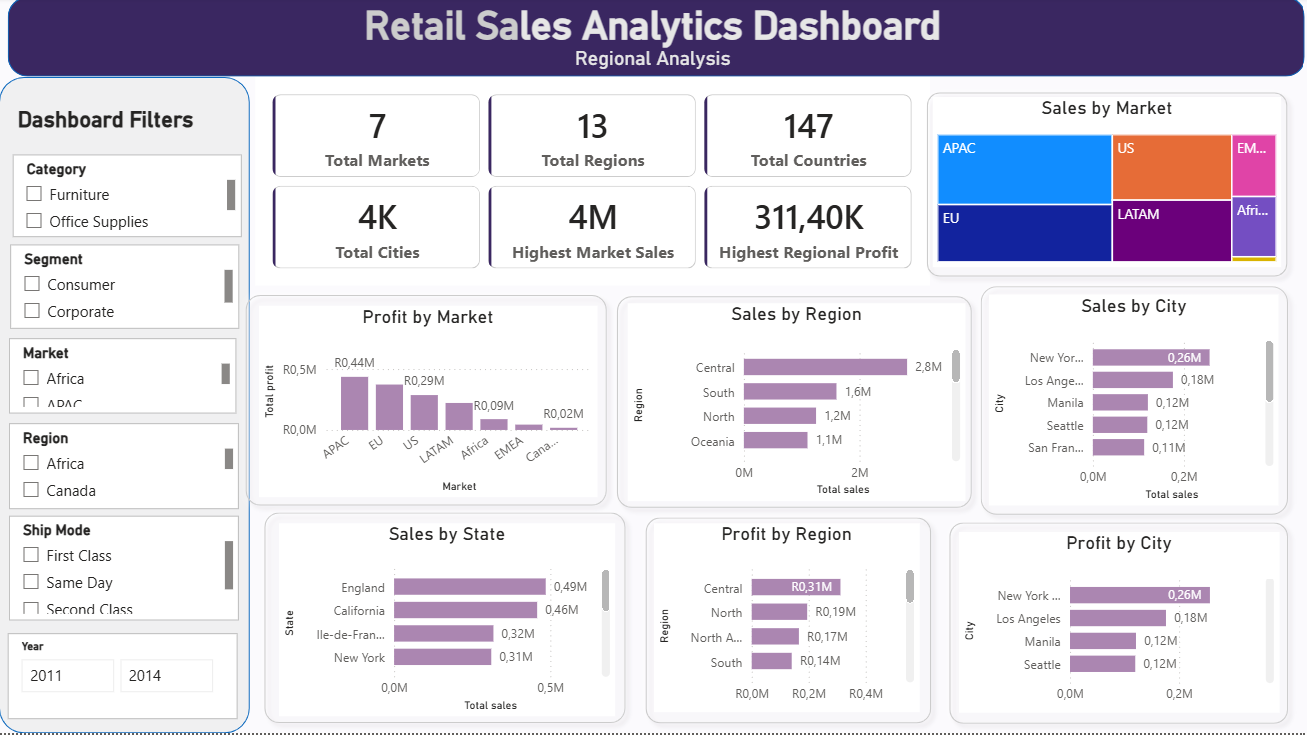

The page's visual inventory and layout, read from the dashboard file:
{"tool":"powerbi","page":{"name":"Regional Analysis","canvas":[1280,720],"ordinal":4},"visuals":[{"type":"shape","box":[8.7,0,1269.6,77.9],"z":0},{"type":"textbox","box":[10.1,0,1259.5,93.8],"z":1000},{"type":"shape","box":[0,77.9,245.3,642],"z":2000},{"type":"slicer","fields":{"Values":["superstore.category"]},"box":[13,154.4,223.6,80.8],"z":3000},{"type":"slicer","fields":{"Values":["superstore.segment"]},"box":[11.5,242.4,223.6,82.2],"z":4000},{"type":"slicer","fields":{"Values":["superstore.market"]},"box":[10.1,333.3,222.2,73.6],"z":5000},{"type":"slicer","fields":{"Values":["superstore.region"]},"box":[10.1,417,225.1,83.7],"z":6000},{"type":"slicer","fields":{"Values":["superstore.ship_mode"]},"box":[10.1,507.9,225.1,102.4],"z":7000},{"type":"slicer","fields":{"Values":["superstore.year"]},"box":[8.7,621.8,225.1,83.7],"z":8000},{"type":"textbox","box":[13,102.4,223.6,50.5],"z":9000},{"type":"cardVisual","fields":{"Data":["superstore.Total Markets","superstore.Total Regions","superstore.Total Countries","superstore.Total Cities","superstore.Highest Market Sales","superstore.Highest Regional Profit"]},"box":[250.7,78.3,660.3,204.2],"z":10000},{"type":"shape","box":[595.9,284.2,365,225.1],"z":11000},{"type":"shape","box":[950.8,274.1,318.6,241.6],"z":12000},{"type":"shape","box":[920.5,505,349.1,215],"z":13000},{"type":"shape","box":[898.8,84.4,370.5,198.1],"z":14000},{"type":"shape","box":[232.3,282.5,371.1,224.1],"z":15000},{"type":"shape","box":[623.3,500.6,297.2,219.3],"z":16000},{"type":"shape","box":[250.3,495.4,371.1,224.1],"z":17000},{"type":"treemap","title":"Sales by Market","fields":{"Group":["superstore.Market"],"Values":["superstore.Total sales"]},"box":[913.5,97.8,341.2,166.3],"z":18000},{"type":"clusteredColumnChart","title":"Profit by Market","fields":{"Category":["superstore.Market"],"Y":["superstore.Total profit"]},"box":[253.9,301.5,330.9,187.3],"z":19000},{"type":"clusteredBarChart","title":"Sales by Region","fields":{"Category":["superstore.Region"],"Y":["superstore.Total sales"]},"box":[614.6,300.1,330.4,193.3],"z":20000},{"type":"clusteredBarChart","title":"Profit by Region","fields":{"Category":["superstore.Region"],"Y":["superstore.Total profit"]},"box":[640.6,515.1,259.7,184.7],"z":21000},{"type":"clusteredBarChart","title":"Sales by City","fields":{"Category":["superstore.City"],"Y":["superstore.Total sales"]},"box":[968.1,291.4,283.6,206.6],"z":22000},{"type":"clusteredBarChart","title":"Sales by State","fields":{"Category":["superstore.State"],"Y":["superstore.Total sales"]},"box":[274.1,515.1,328.9,189],"z":23000},{"type":"clusteredBarChart","title":"Profit by City","fields":{"Category":["superstore.City"],"Y":["superstore.Total sales"]},"box":[939.2,523.7,313.4,176.8],"z":24000}]}

Visuals, with their boxes in screenshot pixels (x1, y1, x2, y2), scaled from the page's 1280x720 canvas onto the 1307x735 screenshot:
shape: crop(9, 0, 1305, 80)
textbox: crop(10, 0, 1296, 96)
shape: crop(0, 80, 250, 734)
slicer - superstore.category: crop(13, 158, 242, 240)
slicer - superstore.segment: crop(12, 247, 240, 331)
slicer - superstore.market: crop(10, 340, 237, 415)
slicer - superstore.region: crop(10, 426, 240, 511)
slicer - superstore.ship_mode: crop(10, 518, 240, 623)
slicer - superstore.year: crop(9, 635, 239, 720)
textbox: crop(13, 105, 242, 156)
cardVisual - superstore.Total Markets x superstore.Total Regions: crop(256, 80, 930, 288)
shape: crop(608, 290, 981, 520)
shape: crop(971, 280, 1296, 526)
shape: crop(940, 516, 1296, 734)
shape: crop(918, 86, 1296, 288)
shape: crop(237, 288, 616, 517)
shape: crop(636, 511, 940, 734)
shape: crop(256, 506, 635, 734)
"Sales by Market" treemap: crop(933, 100, 1281, 270)
"Profit by Market" clusteredColumnChart: crop(259, 308, 597, 499)
"Sales by Region" clusteredBarChart: crop(628, 306, 965, 504)
"Profit by Region" clusteredBarChart: crop(654, 526, 919, 714)
"Sales by City" clusteredBarChart: crop(989, 297, 1278, 508)
"Sales by State" clusteredBarChart: crop(280, 526, 616, 719)
"Profit by City" clusteredBarChart: crop(959, 535, 1279, 715)
